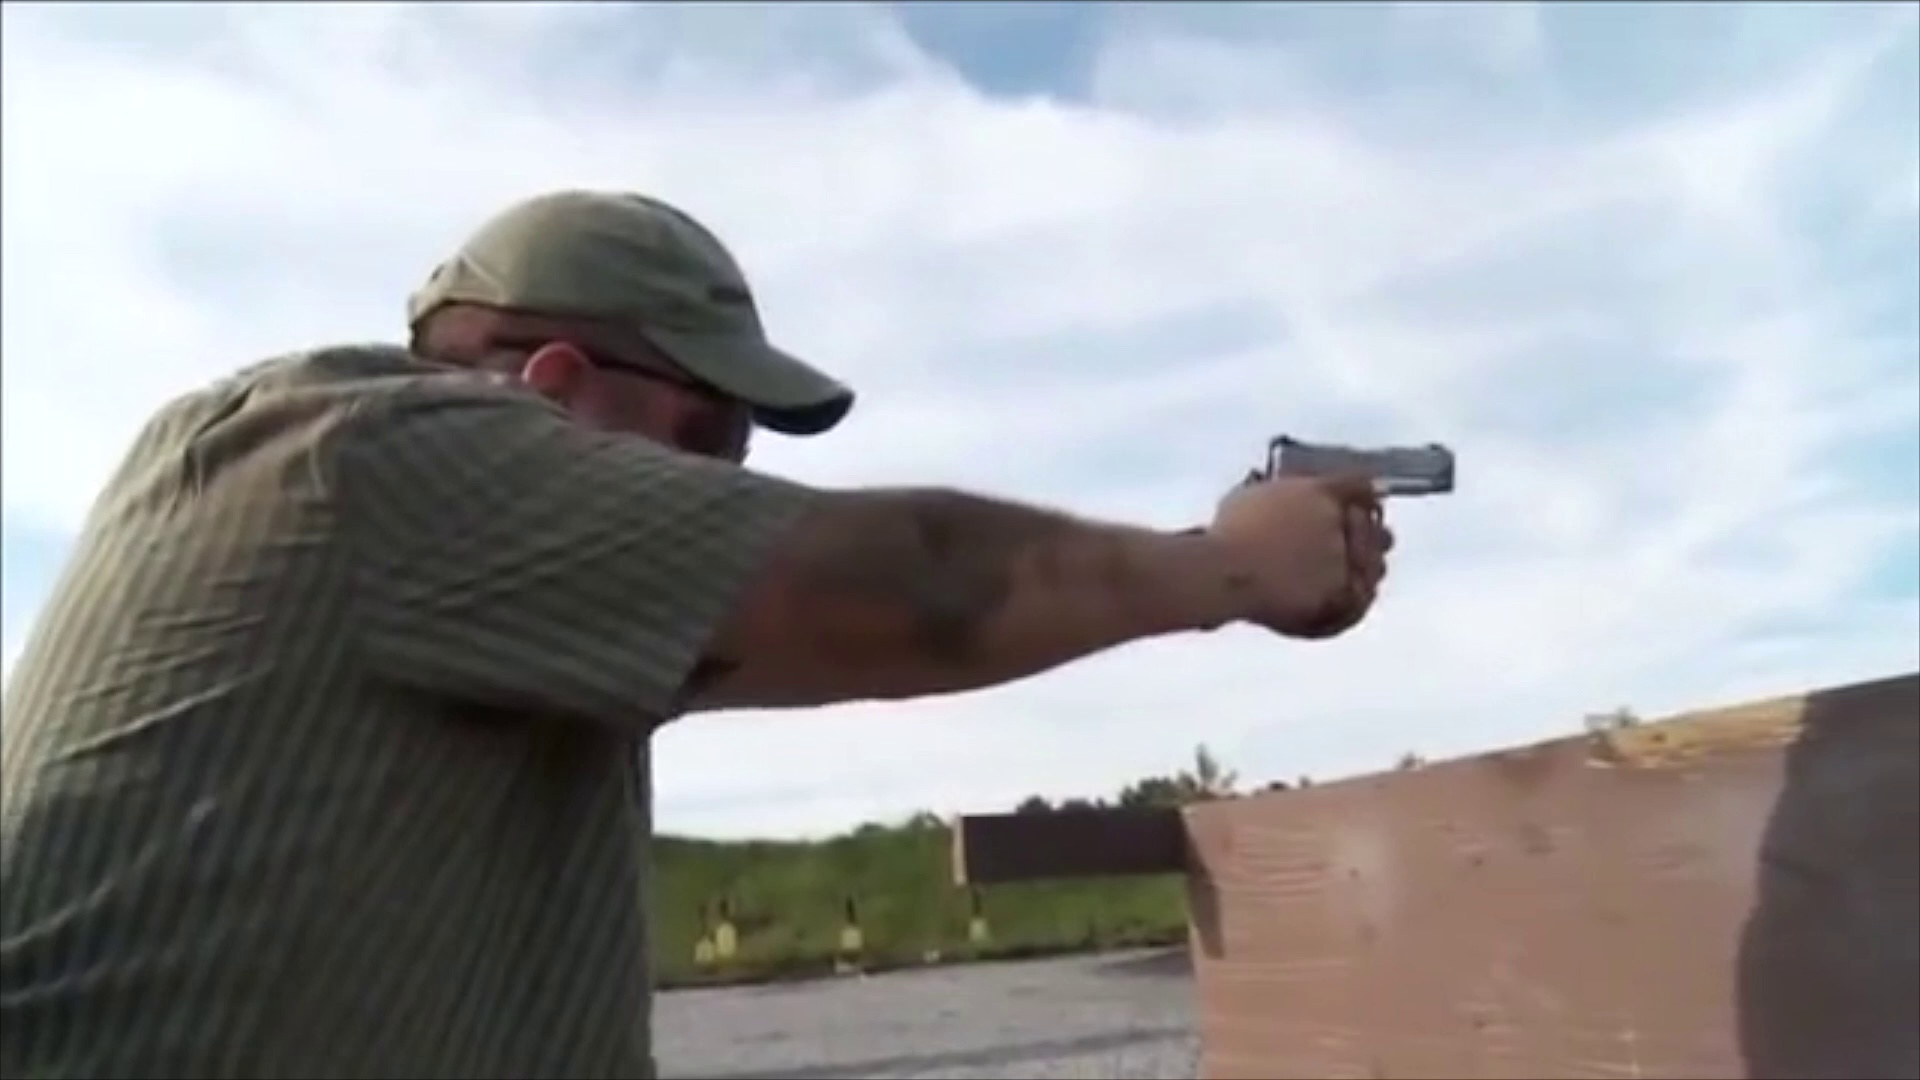gun: (1246, 422, 1476, 522)
